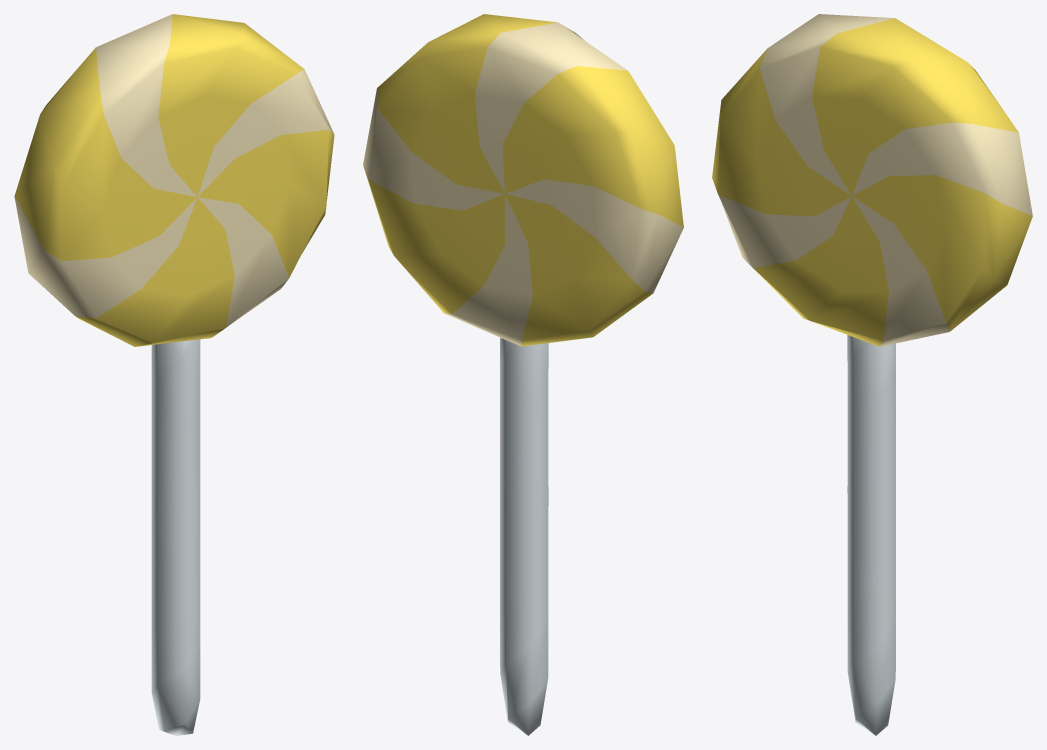
Rendered from candy_assets40.fbx.
3 renders of one model, left to right at view 1: azimuth 30°, elevation 25°; view 2: azimuth 150°, elevation 25°; view 3: azimuth 330°, elevation 25°, orthographic.
Visible parts, largest first — view 1: candy_assets40; view 2: candy_assets40; view 3: candy_assets40.
Part boxes in pixels (box(x1,y1,x2,y2)): candy_assets40: box(14, 14, 334, 735); candy_assets40: box(363, 14, 683, 735); candy_assets40: box(712, 14, 1032, 735).
Size of the model in its own units: 503 by 1153 by 124.
Materials: 1 (1 with a texture image).
